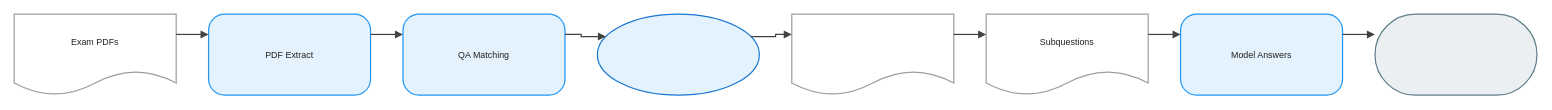
This 1552x110 diagram has some shape labels left out. The shapes that lost their labels are listed below. From the top down, each one's centre as x and y in pixels, then its label:
At (x=678, y=54): "Human Verify".
At (x=872, y=54): "Rubrics".
At (x=1455, y=54): "Medal Scores".
